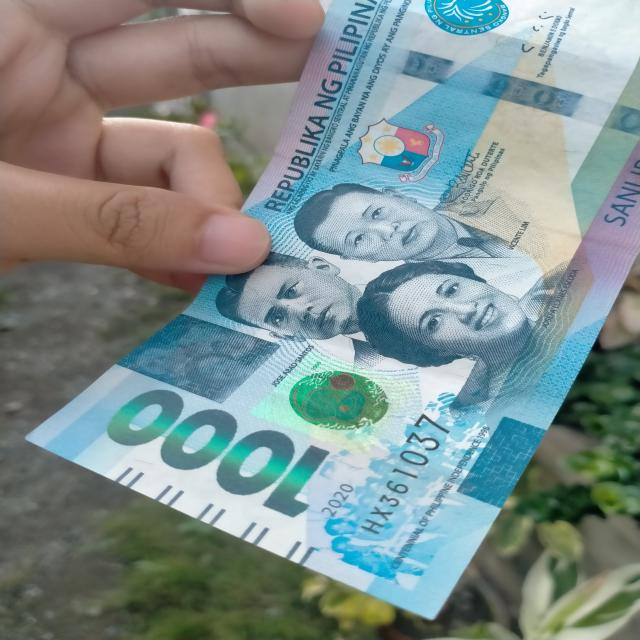concealed_value: (115, 312, 281, 404)
optically_variable_device: (247, 350, 418, 454)
serial_number: (358, 411, 450, 542)
